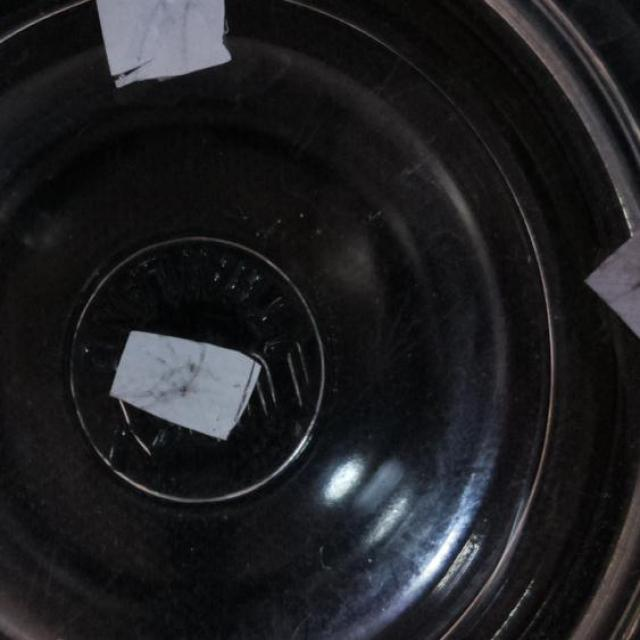fiber: (109, 325, 263, 441), (92, 0, 238, 93), (586, 234, 640, 336)
